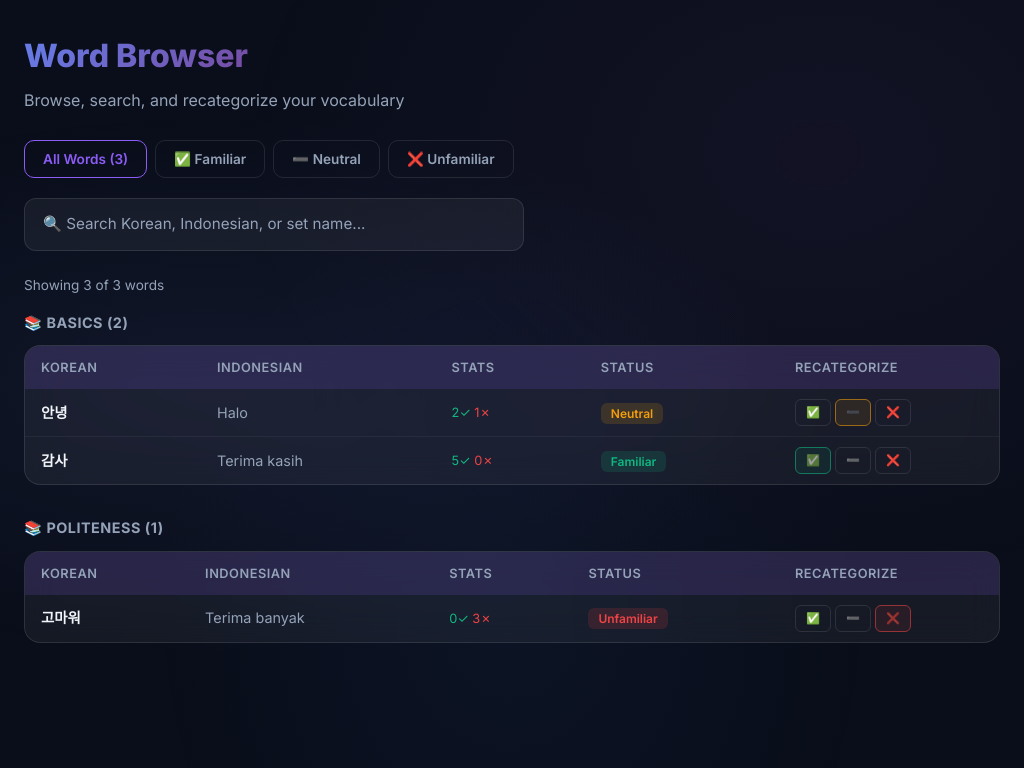
WordBrowser › search shows "no words match" message when nothing matches
In the field with placeholder "🔍 Search Korean, Indonesian, or set name...": (274, 225) [24, 198, 524, 251], type "xyznonexistent"
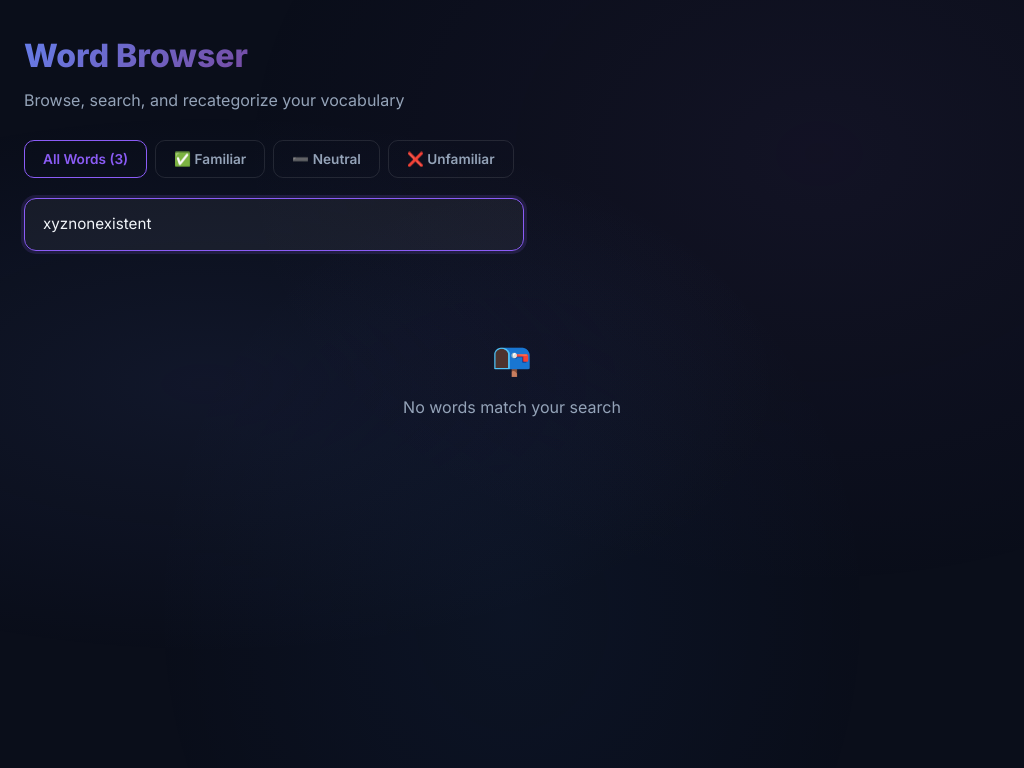
Expected: the text "No words match your search" is shown, [403, 397, 621, 417]
